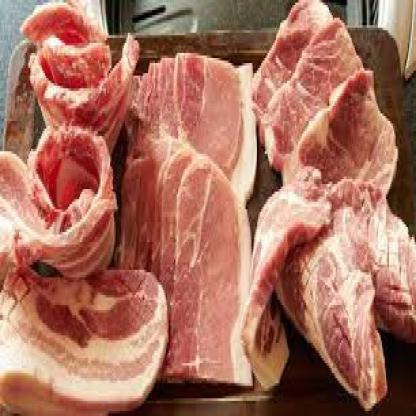pork: (130, 78, 260, 381), (258, 200, 414, 404), (260, 18, 394, 204), (6, 277, 168, 396), (3, 141, 126, 270), (33, 10, 133, 136)
